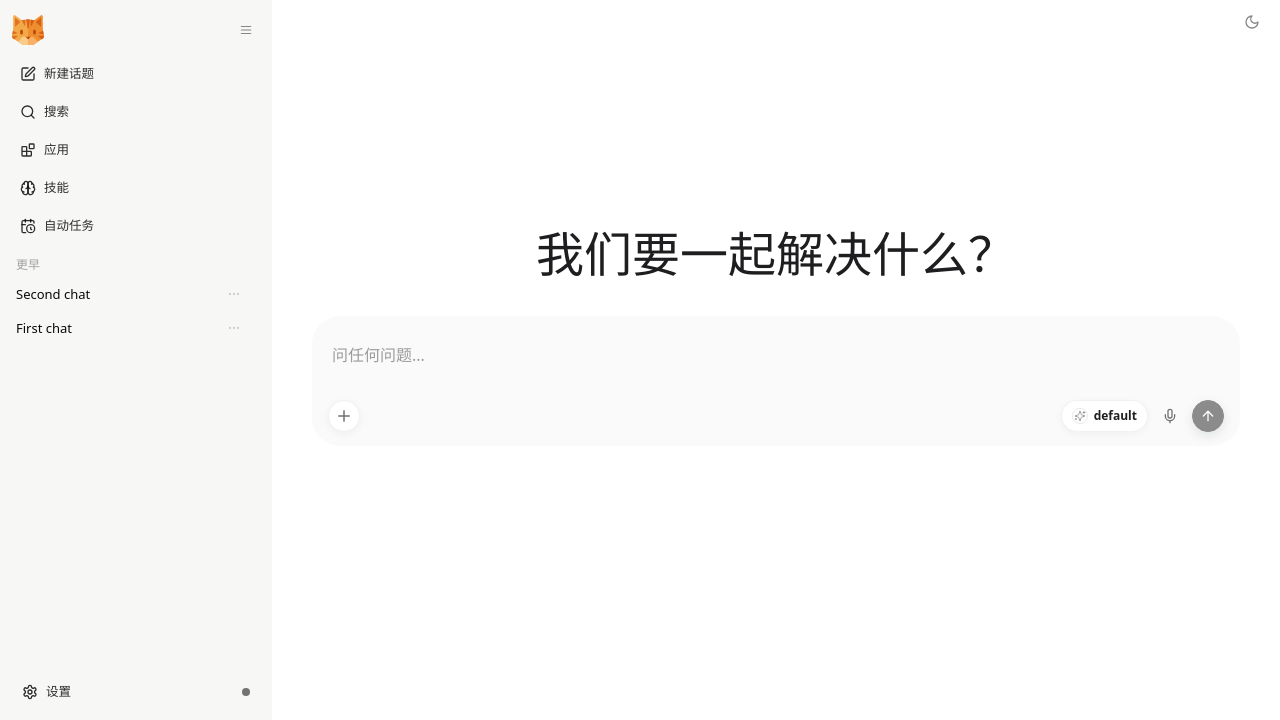
App layout › shows localized bound automations in the first delete confirmation
Expected: the button "First chat" is shown, [16,312,190,344]
Press the mouse on the button named "“First chat” 的话题操作" at (234, 328), box [222,316,246,340]
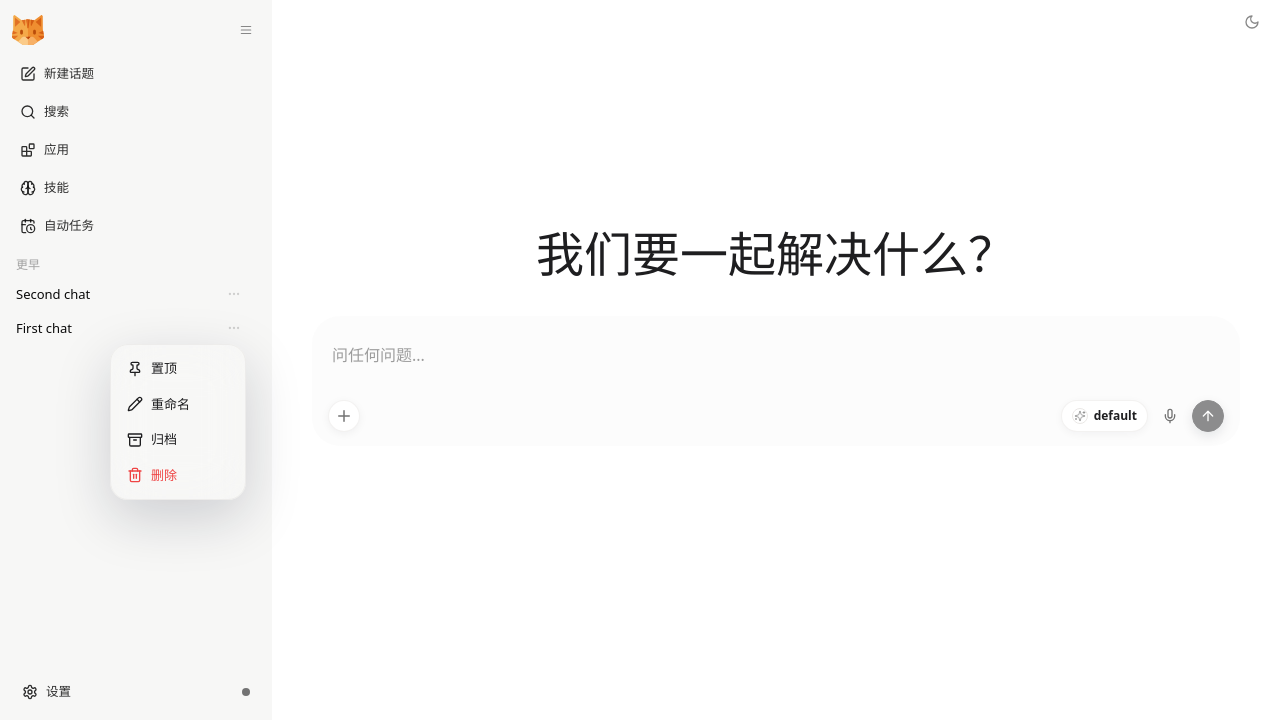
Click the menu item "删除". click: (152, 474)
box: [127,466,177,484]
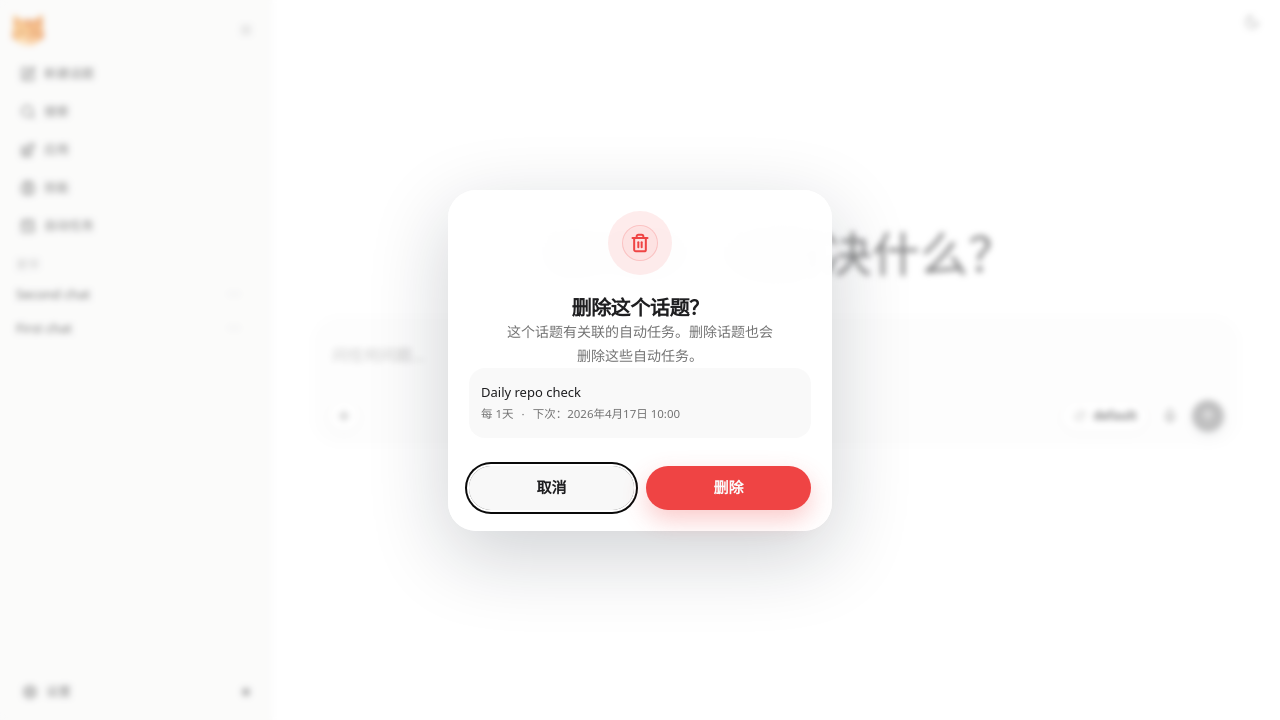
Expected: the text "Daily repo check" is shown, [481,382,581,400]
Expected: the text "这个话题有关联的自动任务。删除话题也会删除这些自动任务。" is shown, [504,320,776,368]
Click the button "删除". click: (728, 488)
box: [646,466,811,510]
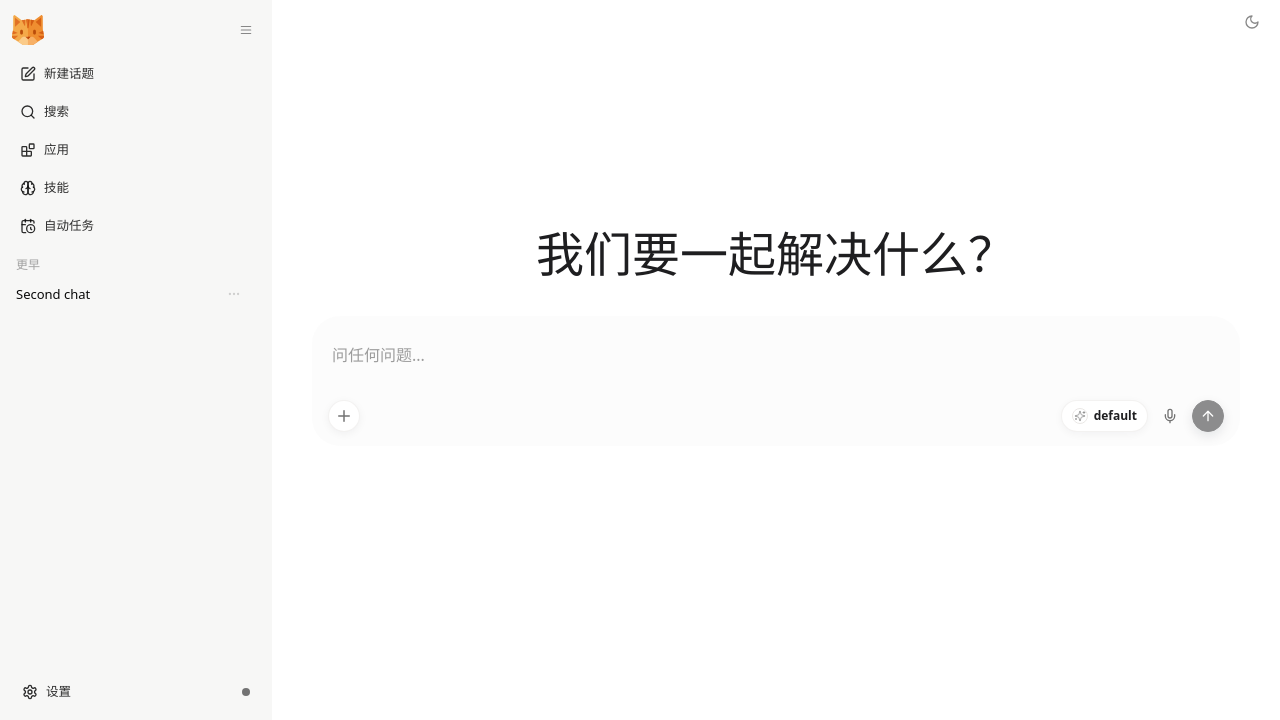
Expected: the text "Daily repo check" is gone
